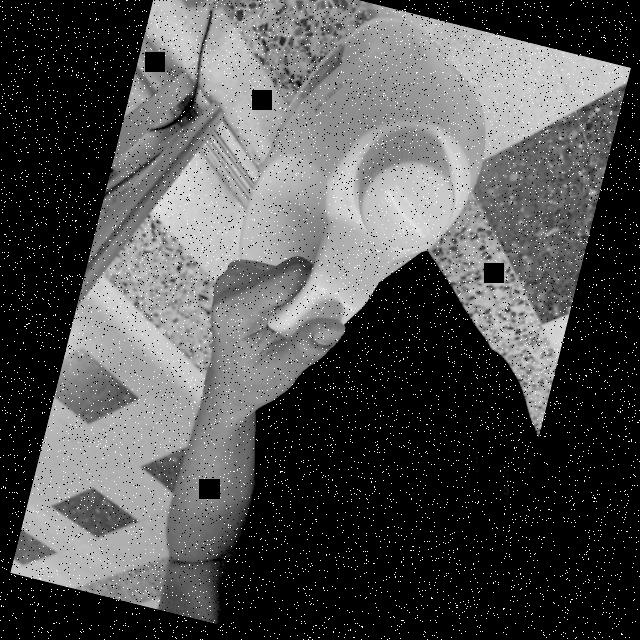chemical_plastic_gallon: (212, 0, 511, 379)
